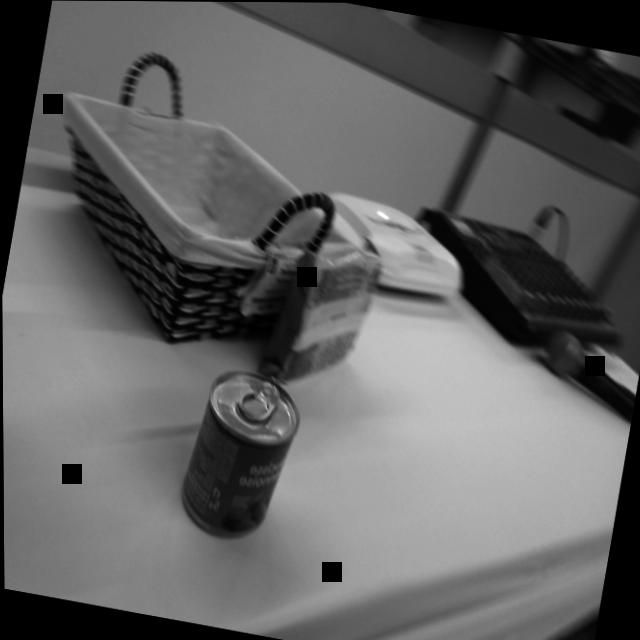basket: (21, 28, 349, 367)
noodles: (251, 231, 390, 399)
sausages: (167, 356, 307, 554)
